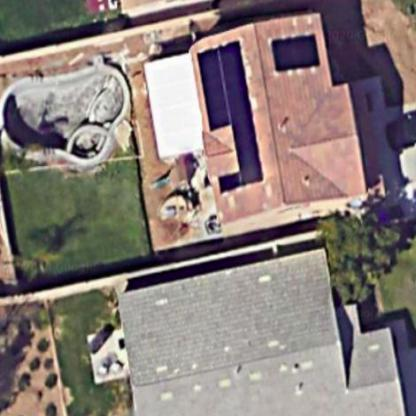solar_panel: (194, 33, 267, 190), (271, 24, 322, 76)
swimming_pool: (1, 65, 136, 176)
